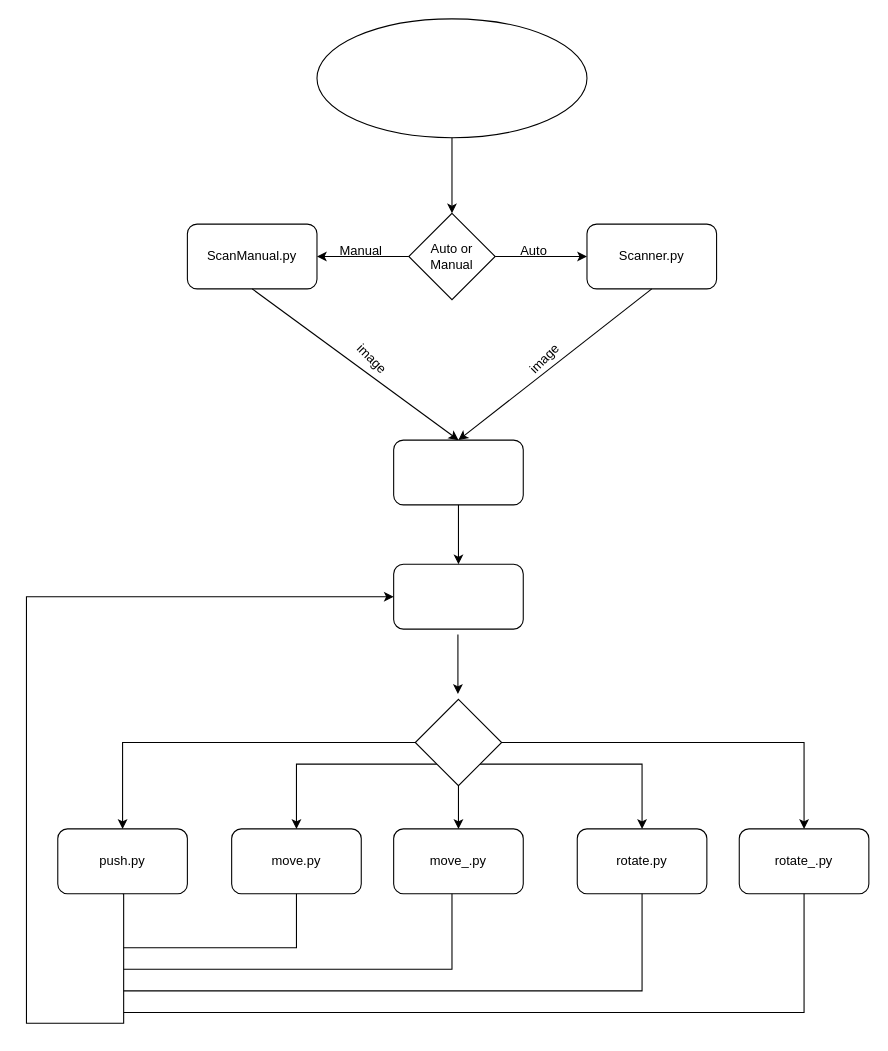
Some shapes in this 888 by 1051 pixel diagram are drawn without their labels. Each missing label, with the centre of its shape:
"Choose Option -RepliCube -Solver" belongs at point (451, 78).
"main.py" belongs at point (458, 472).
"Movement" belongs at point (458, 742).
"solver.py" belongs at point (458, 596).
